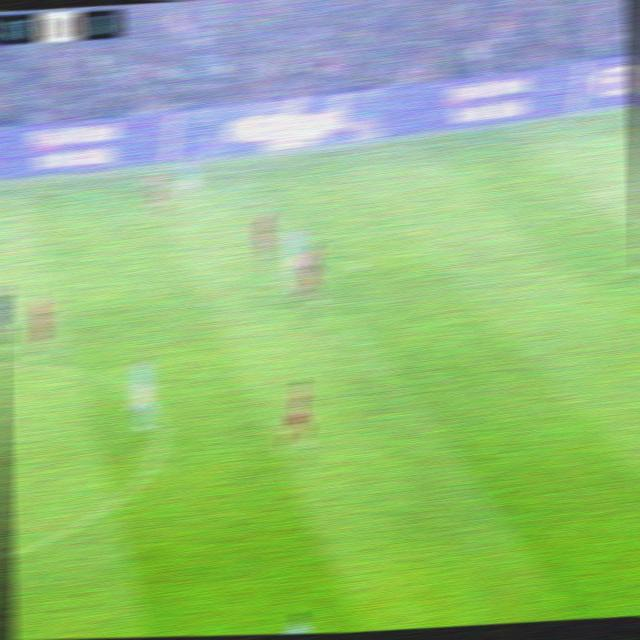bigarea_top_inner: (572, 174, 608, 214)
